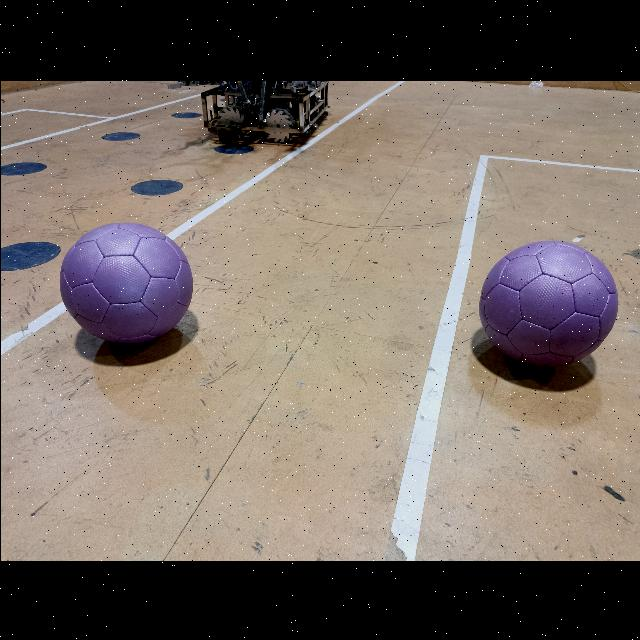P: (477, 240, 617, 366), (59, 222, 191, 342)
